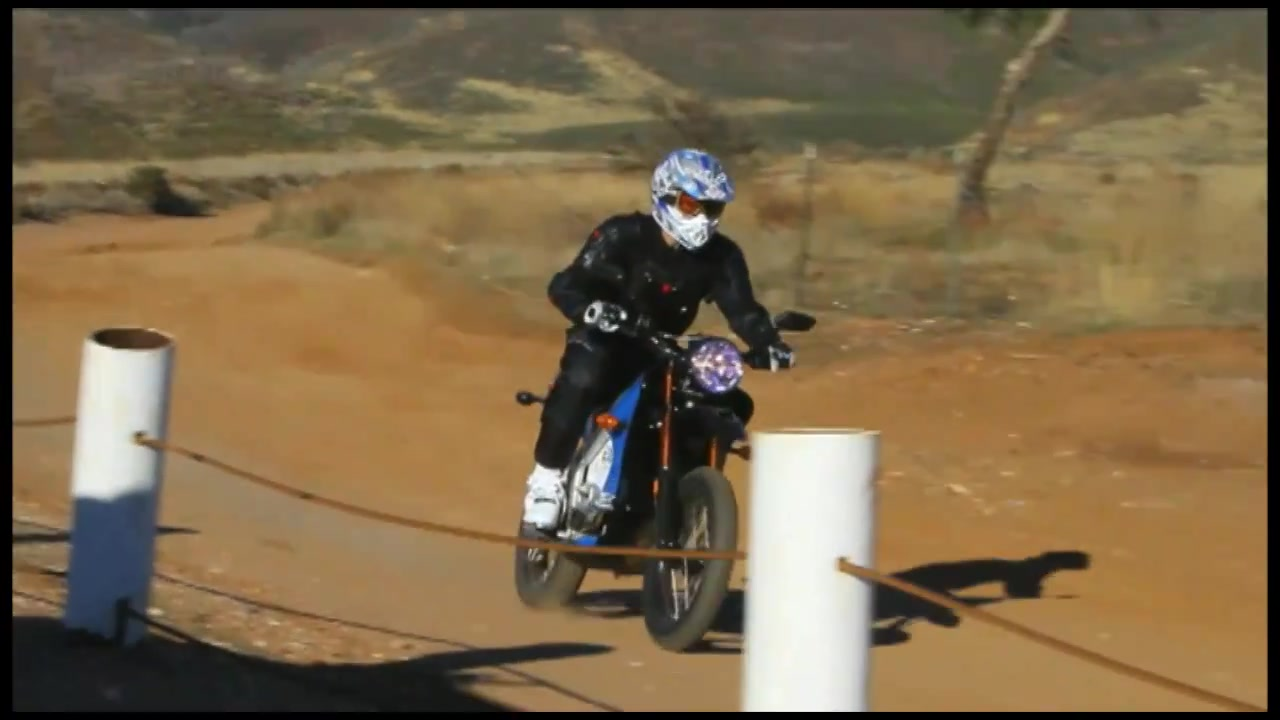motorbike: (513, 299, 817, 656)
